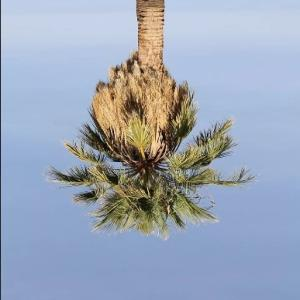palm tree: (43, 0, 259, 240)
